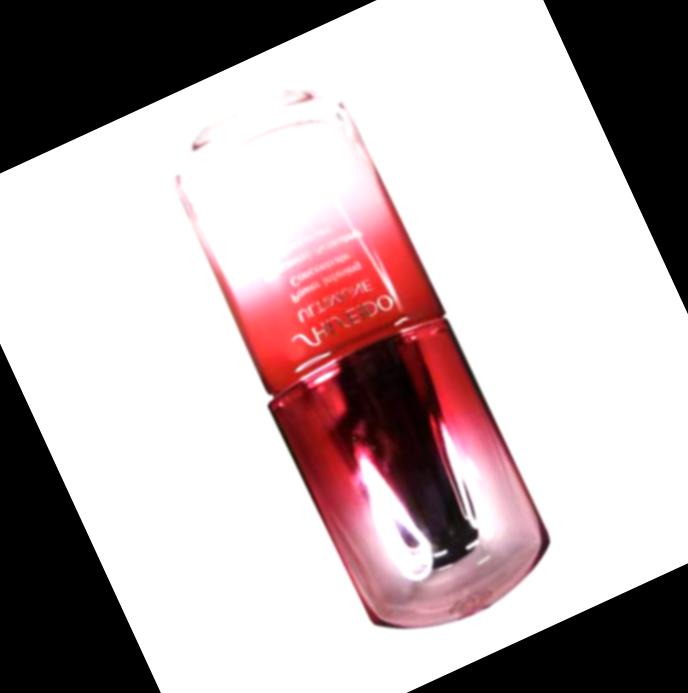cosmetic: (148, 64, 572, 661)
